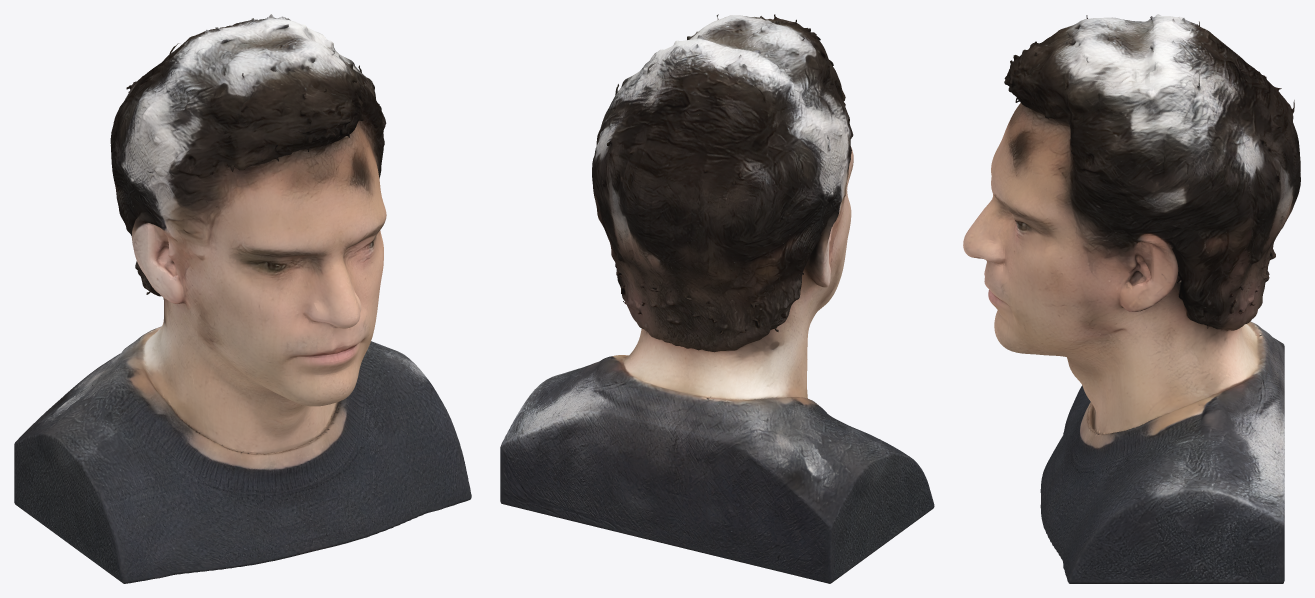
Rendered from rodin_v2_5_minimum_50k_quad_texture_high_shaded.glb.
3 views of the same model, side by side, from view 1: azimuth 30°, elevation 25°; view 2: azimuth 150°, elevation 25°; view 3: azimuth 270°, elevation 25° (orthographic). The views are drawn at different scales.
Visible parts, largest first — view 1: model; view 2: model; view 3: model.
Part boxes in pixels (left/top/right/bottom): model: left=14, top=14, right=471, bottom=583; model: left=500, top=14, right=934, bottom=583; model: left=963, top=14, right=1300, bottom=583.
Bounding box in the file's own units: 1.43 × 1.89 × 1.22.
1 material, 1 textured.
